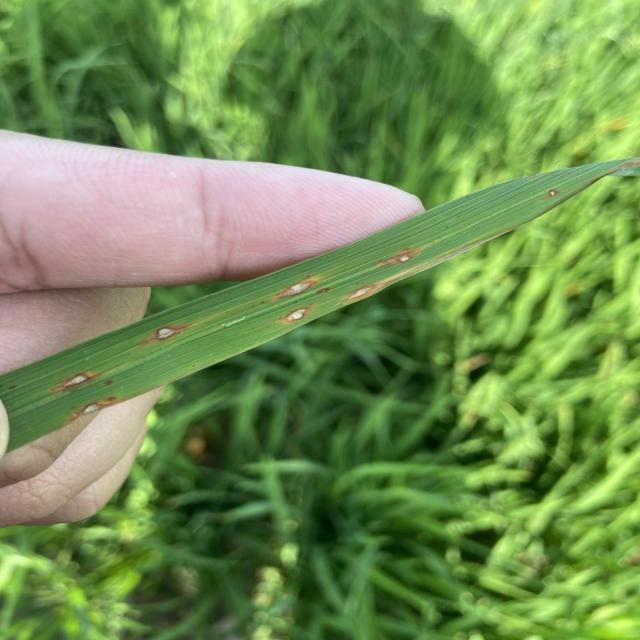Dao on: (72, 397, 117, 421), (276, 278, 317, 299), (151, 326, 186, 339), (282, 307, 310, 323), (346, 287, 373, 300), (63, 374, 87, 387), (548, 189, 558, 197), (399, 256, 409, 262)
